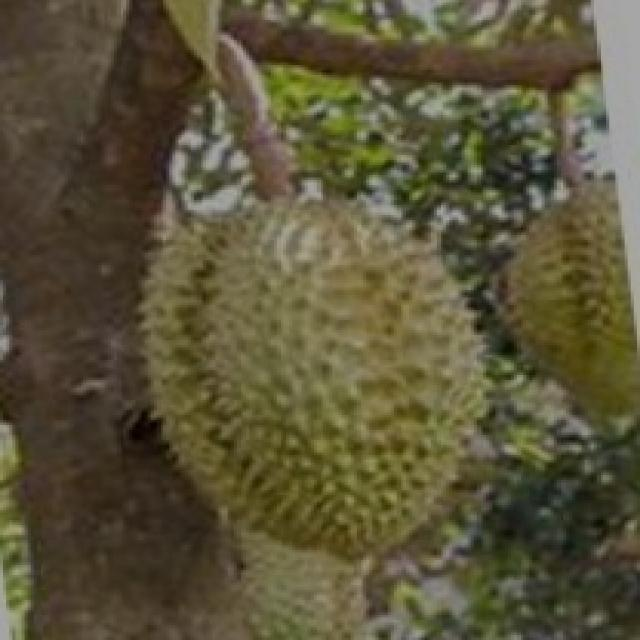fruit: (74, 215, 461, 603)
